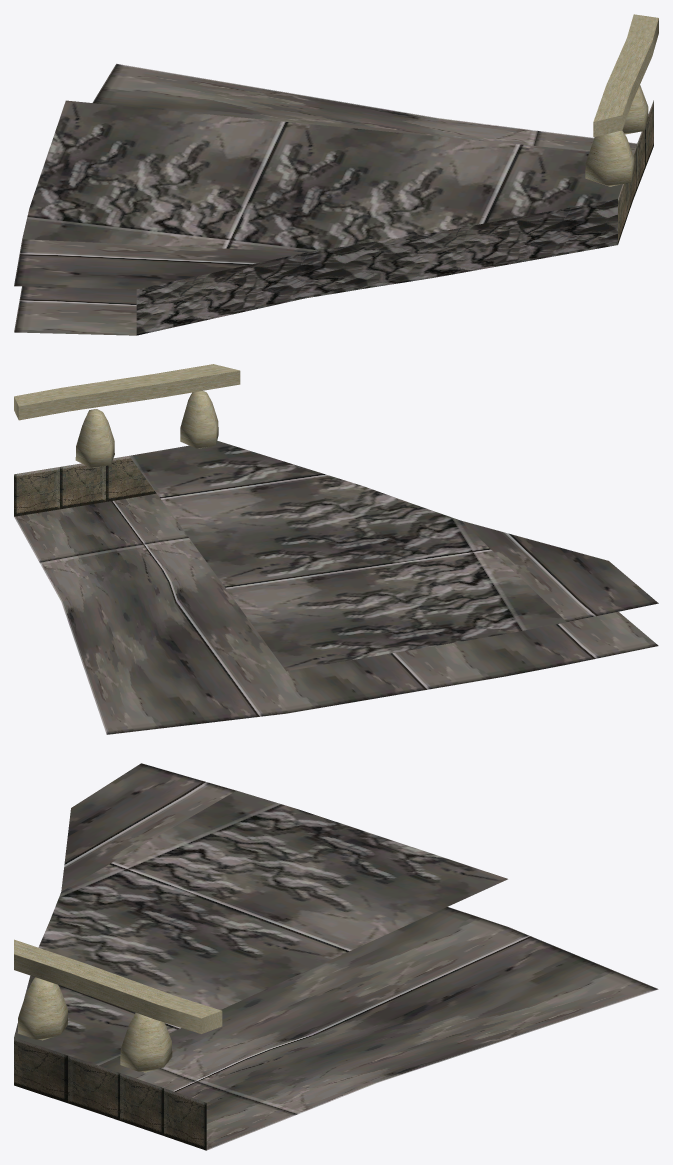
File: CH09_SMAUG_PLAYSURFACE_LAIR54.fbx
3 renders of one model, top to bottom at view 1: azimuth 30°, elevation 25°; view 2: azimuth 150°, elevation 25°; view 3: azimuth 270°, elevation 25°, orthographic. The views are drawn at different scales.
Parts seen in each view (by area): view 1: CH09_SMAUG_PLAYSURFACE_LAIR54; view 2: CH09_SMAUG_PLAYSURFACE_LAIR54; view 3: CH09_SMAUG_PLAYSURFACE_LAIR54.
Boxes of the visible parts, x1,y1,x2,y2 form: CH09_SMAUG_PLAYSURFACE_LAIR54: [14, 14, 658, 335]; CH09_SMAUG_PLAYSURFACE_LAIR54: [14, 364, 658, 734]; CH09_SMAUG_PLAYSURFACE_LAIR54: [14, 763, 658, 1150].
Bounding box in the file's own units: 93020 × 16994 × 74409.
5 materials, 5 textured.
